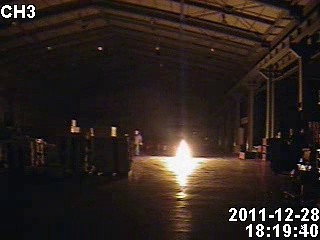fire: (171, 140, 194, 162)
